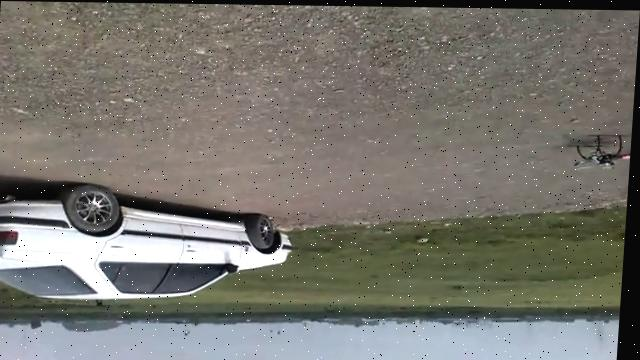drone: (572, 130, 633, 172)
